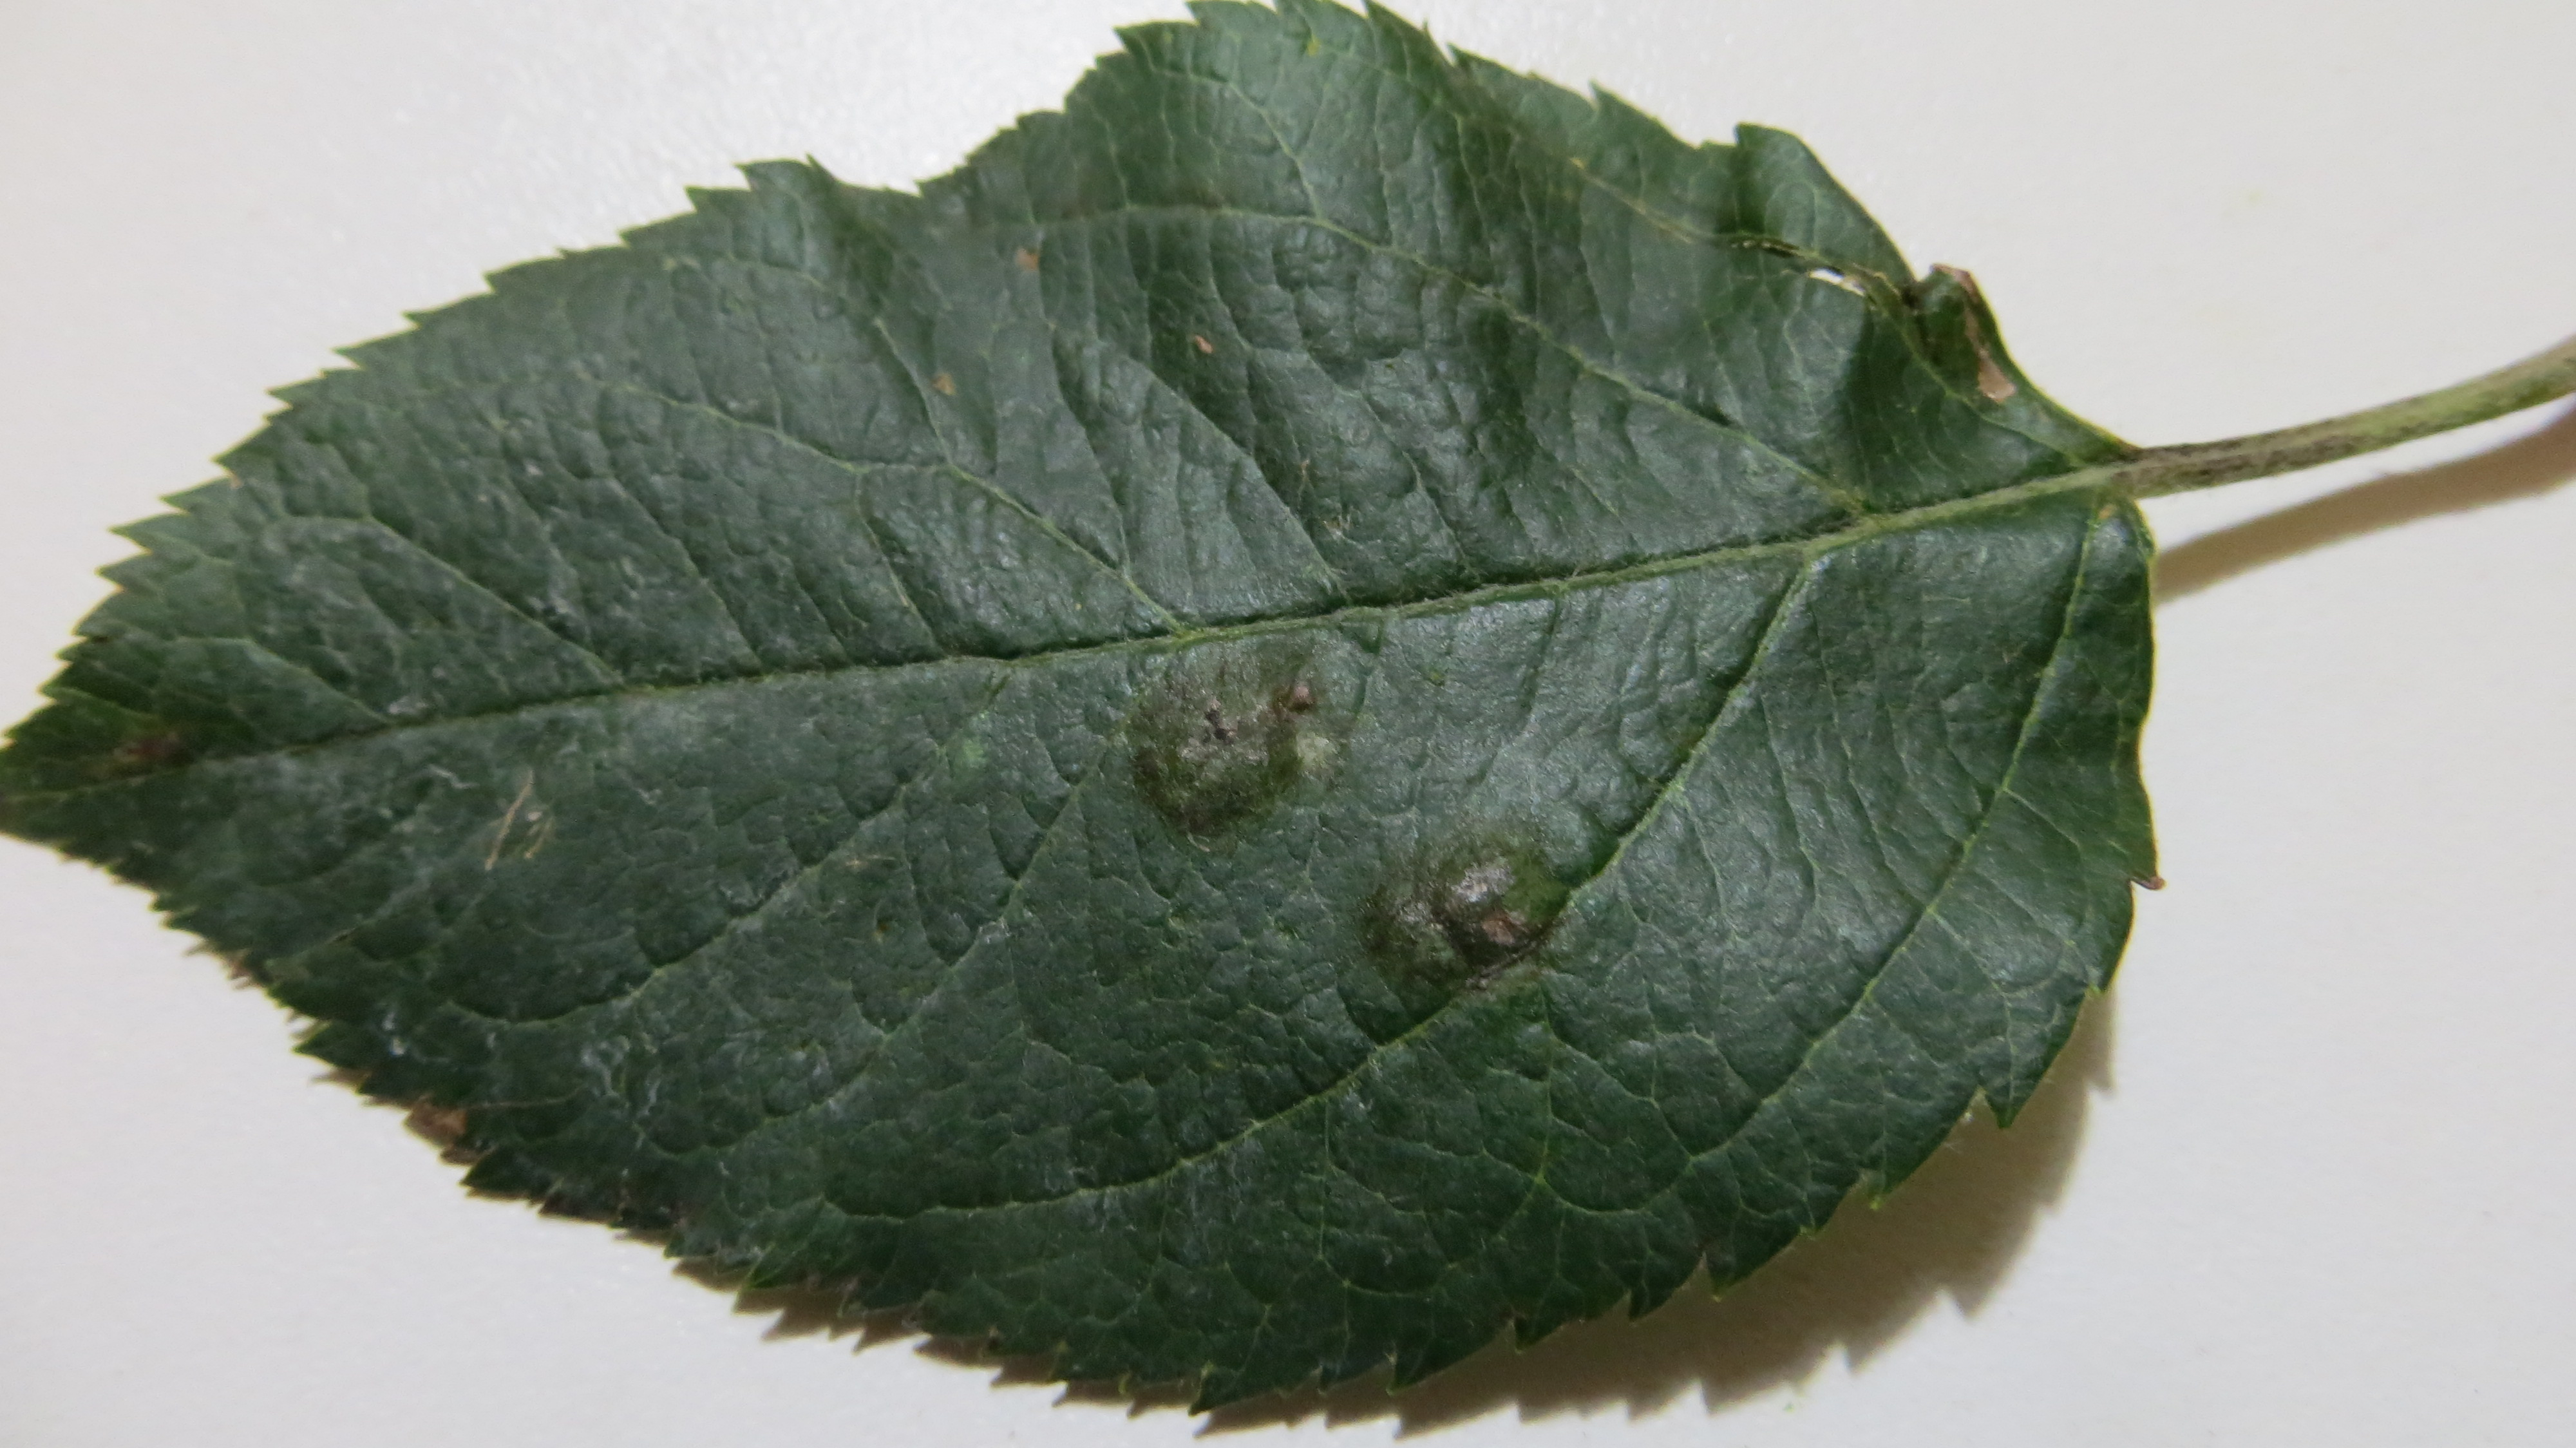sarna: (1120, 641, 1343, 841), (1352, 828, 1560, 1009)
